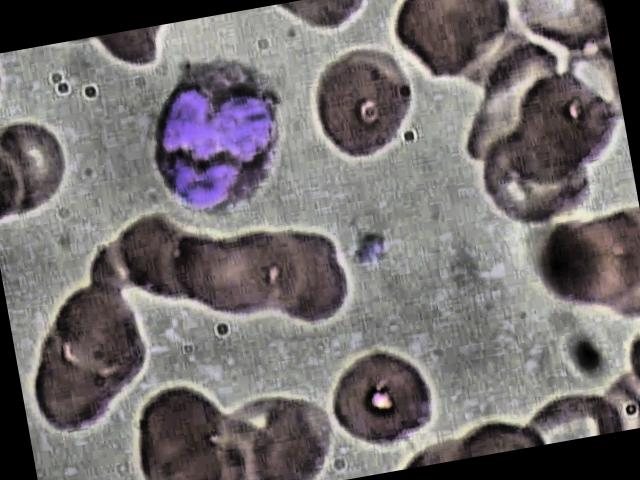Platelets: (346, 225, 396, 269)
RBC: (300, 42, 435, 169), (318, 331, 452, 458), (502, 56, 631, 184), (384, 0, 526, 95), (229, 376, 343, 480), (125, 378, 232, 475), (49, 278, 152, 378), (528, 218, 626, 318), (27, 342, 124, 442), (100, 207, 196, 308), (266, 244, 362, 338), (0, 116, 83, 217)
WBC: (126, 50, 302, 227)
